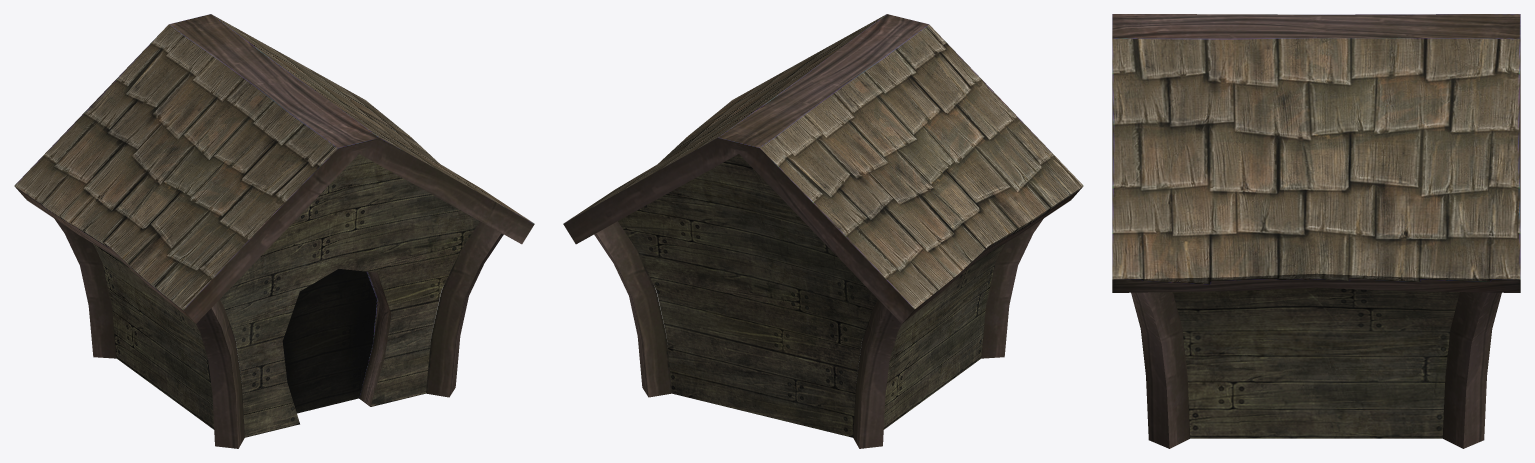
File: PenGEO.fbx
The picture shows the model from 3 angles, left to right: view 1: azimuth 30°, elevation 25°; view 2: azimuth 150°, elevation 25°; view 3: azimuth 270°, elevation 25°; orthographic projection. The views are drawn at different scales.
Visible parts, largest first — view 1: Pen; view 2: Pen; view 3: Pen.
Part boxes in pixels (bbox=[...]): Pen: bbox=[14, 14, 534, 448]; Pen: bbox=[563, 14, 1083, 448]; Pen: bbox=[1112, 14, 1520, 448].
Size of the model in its own units: 16.67 by 13.2 by 13.89.
Materials: 1 (1 with a texture image).
